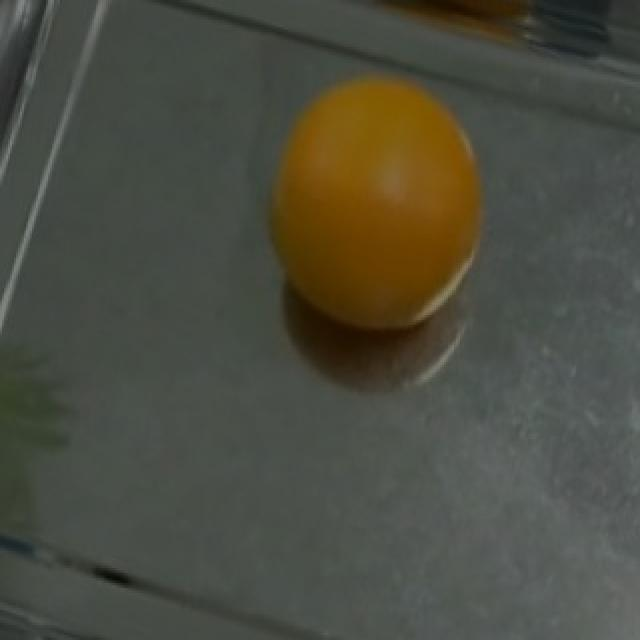Fruit: (240, 74, 508, 360)
